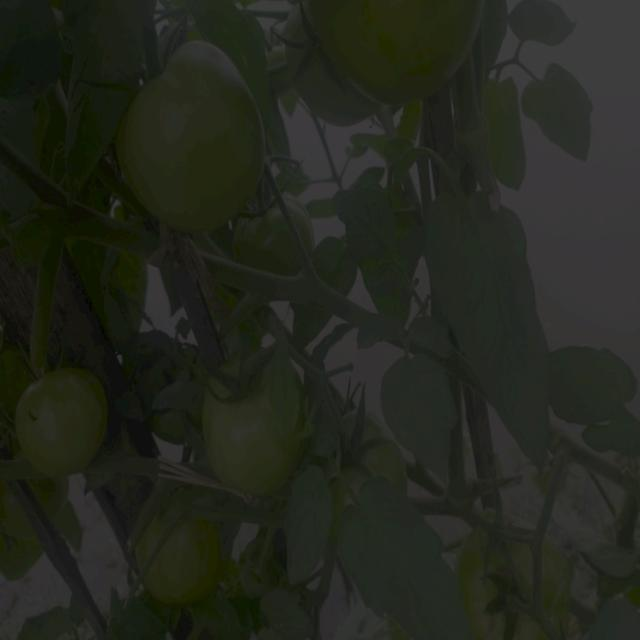tomato: (113, 36, 283, 247), (306, 1, 506, 112), (200, 353, 311, 504), (124, 494, 243, 615), (463, 529, 567, 636), (13, 363, 109, 474)
